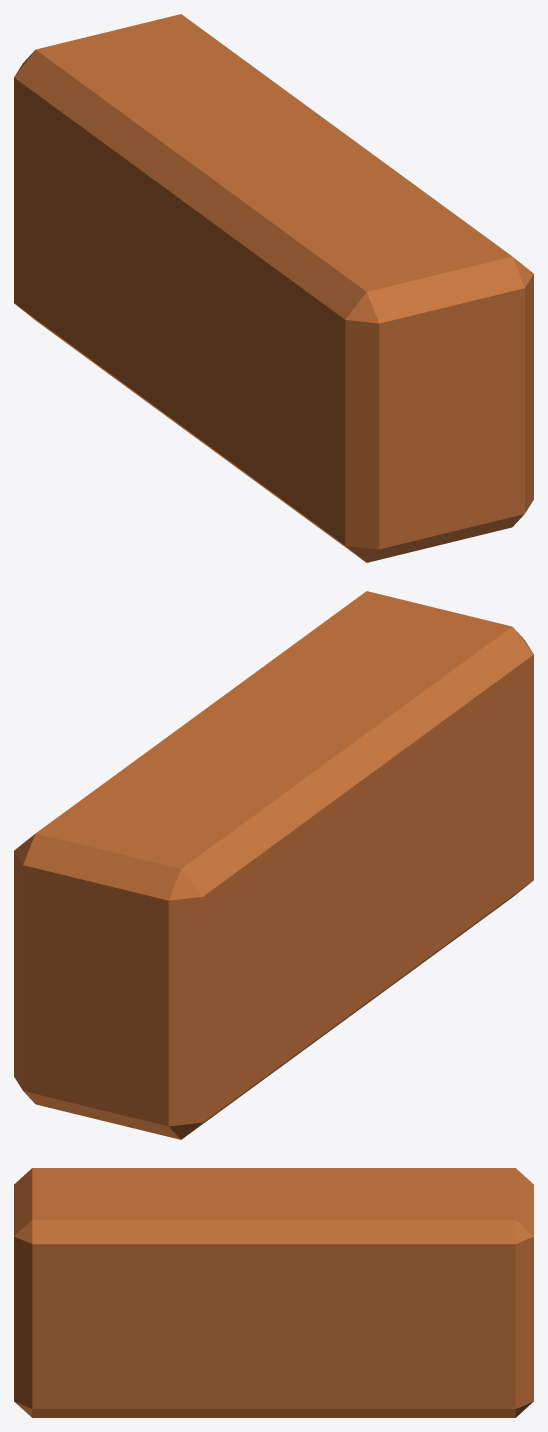
File: brick.fbx
3 renders of one model, top to bottom at view 1: azimuth 30°, elevation 25°; view 2: azimuth 150°, elevation 25°; view 3: azimuth 270°, elevation 25°, orthographic. The views are drawn at different scales.
Visible parts, largest first — view 1: Brick; view 2: Brick; view 3: Brick.
Boxes of the visible parts, x1,y1,x2,y2 form: Brick: (14, 14, 533, 562); Brick: (14, 591, 533, 1139); Brick: (14, 1168, 533, 1417).
Bounding box in the file's own units: 24.1 × 78.73 × 33.05.
